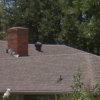Chimney: (4, 17, 34, 63)
